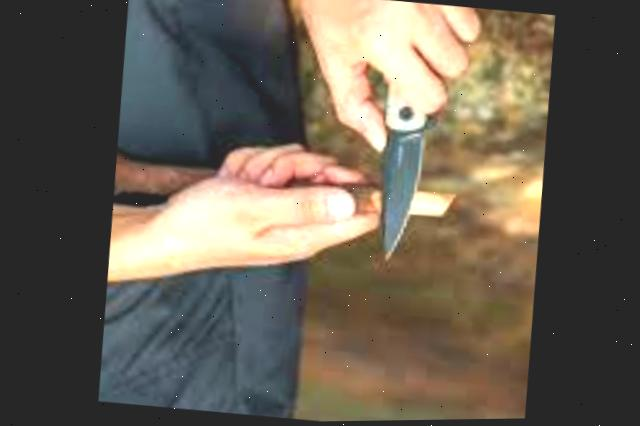pocket-knife: (361, 12, 465, 265)
